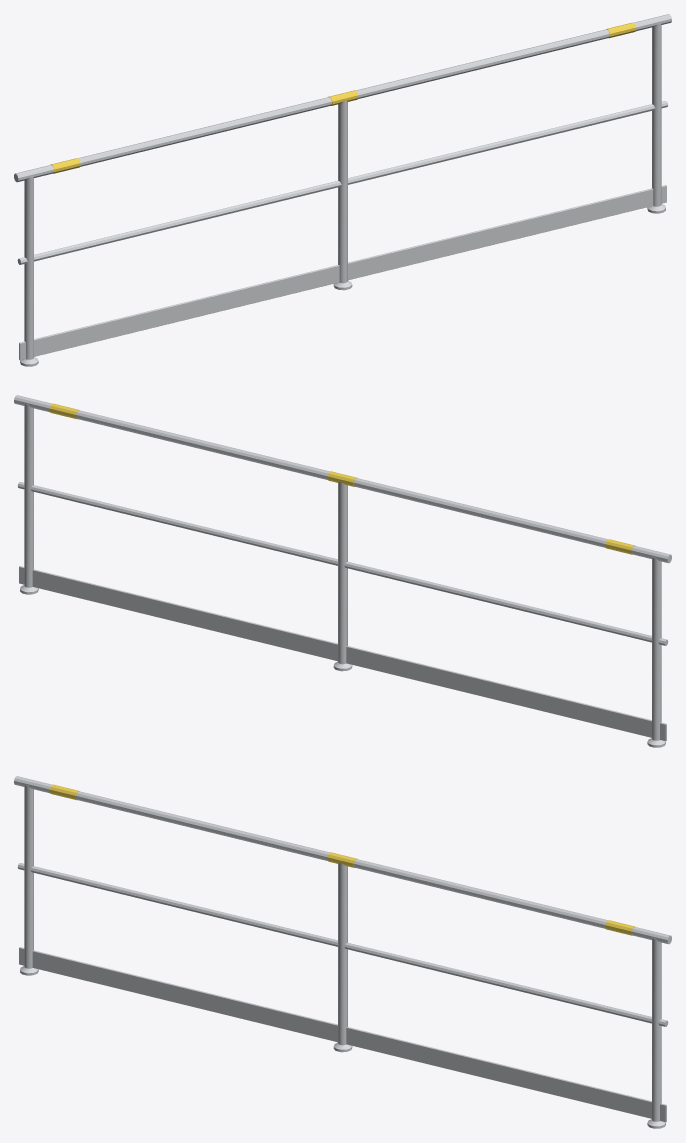
The model's file is nuclear-power-station-and-control-room-handrail-run-b571d694__36883.glb.
3 renders of one model, top to bottom at view 1: azimuth 30°, elevation 25°; view 2: azimuth 150°, elevation 25°; view 3: azimuth 330°, elevation 25°, orthographic.
Parts seen in each view (by area): view 1: handrail-run; view 2: handrail-run; view 3: handrail-run.
Part boxes in pixels (<box>): handrail-run: <box>14,14,671,366</box>; handrail-run: <box>14,395,671,747</box>; handrail-run: <box>14,776,671,1128</box>.
Bounding box in the file's own units: 4 × 1.13 × 0.0952.
